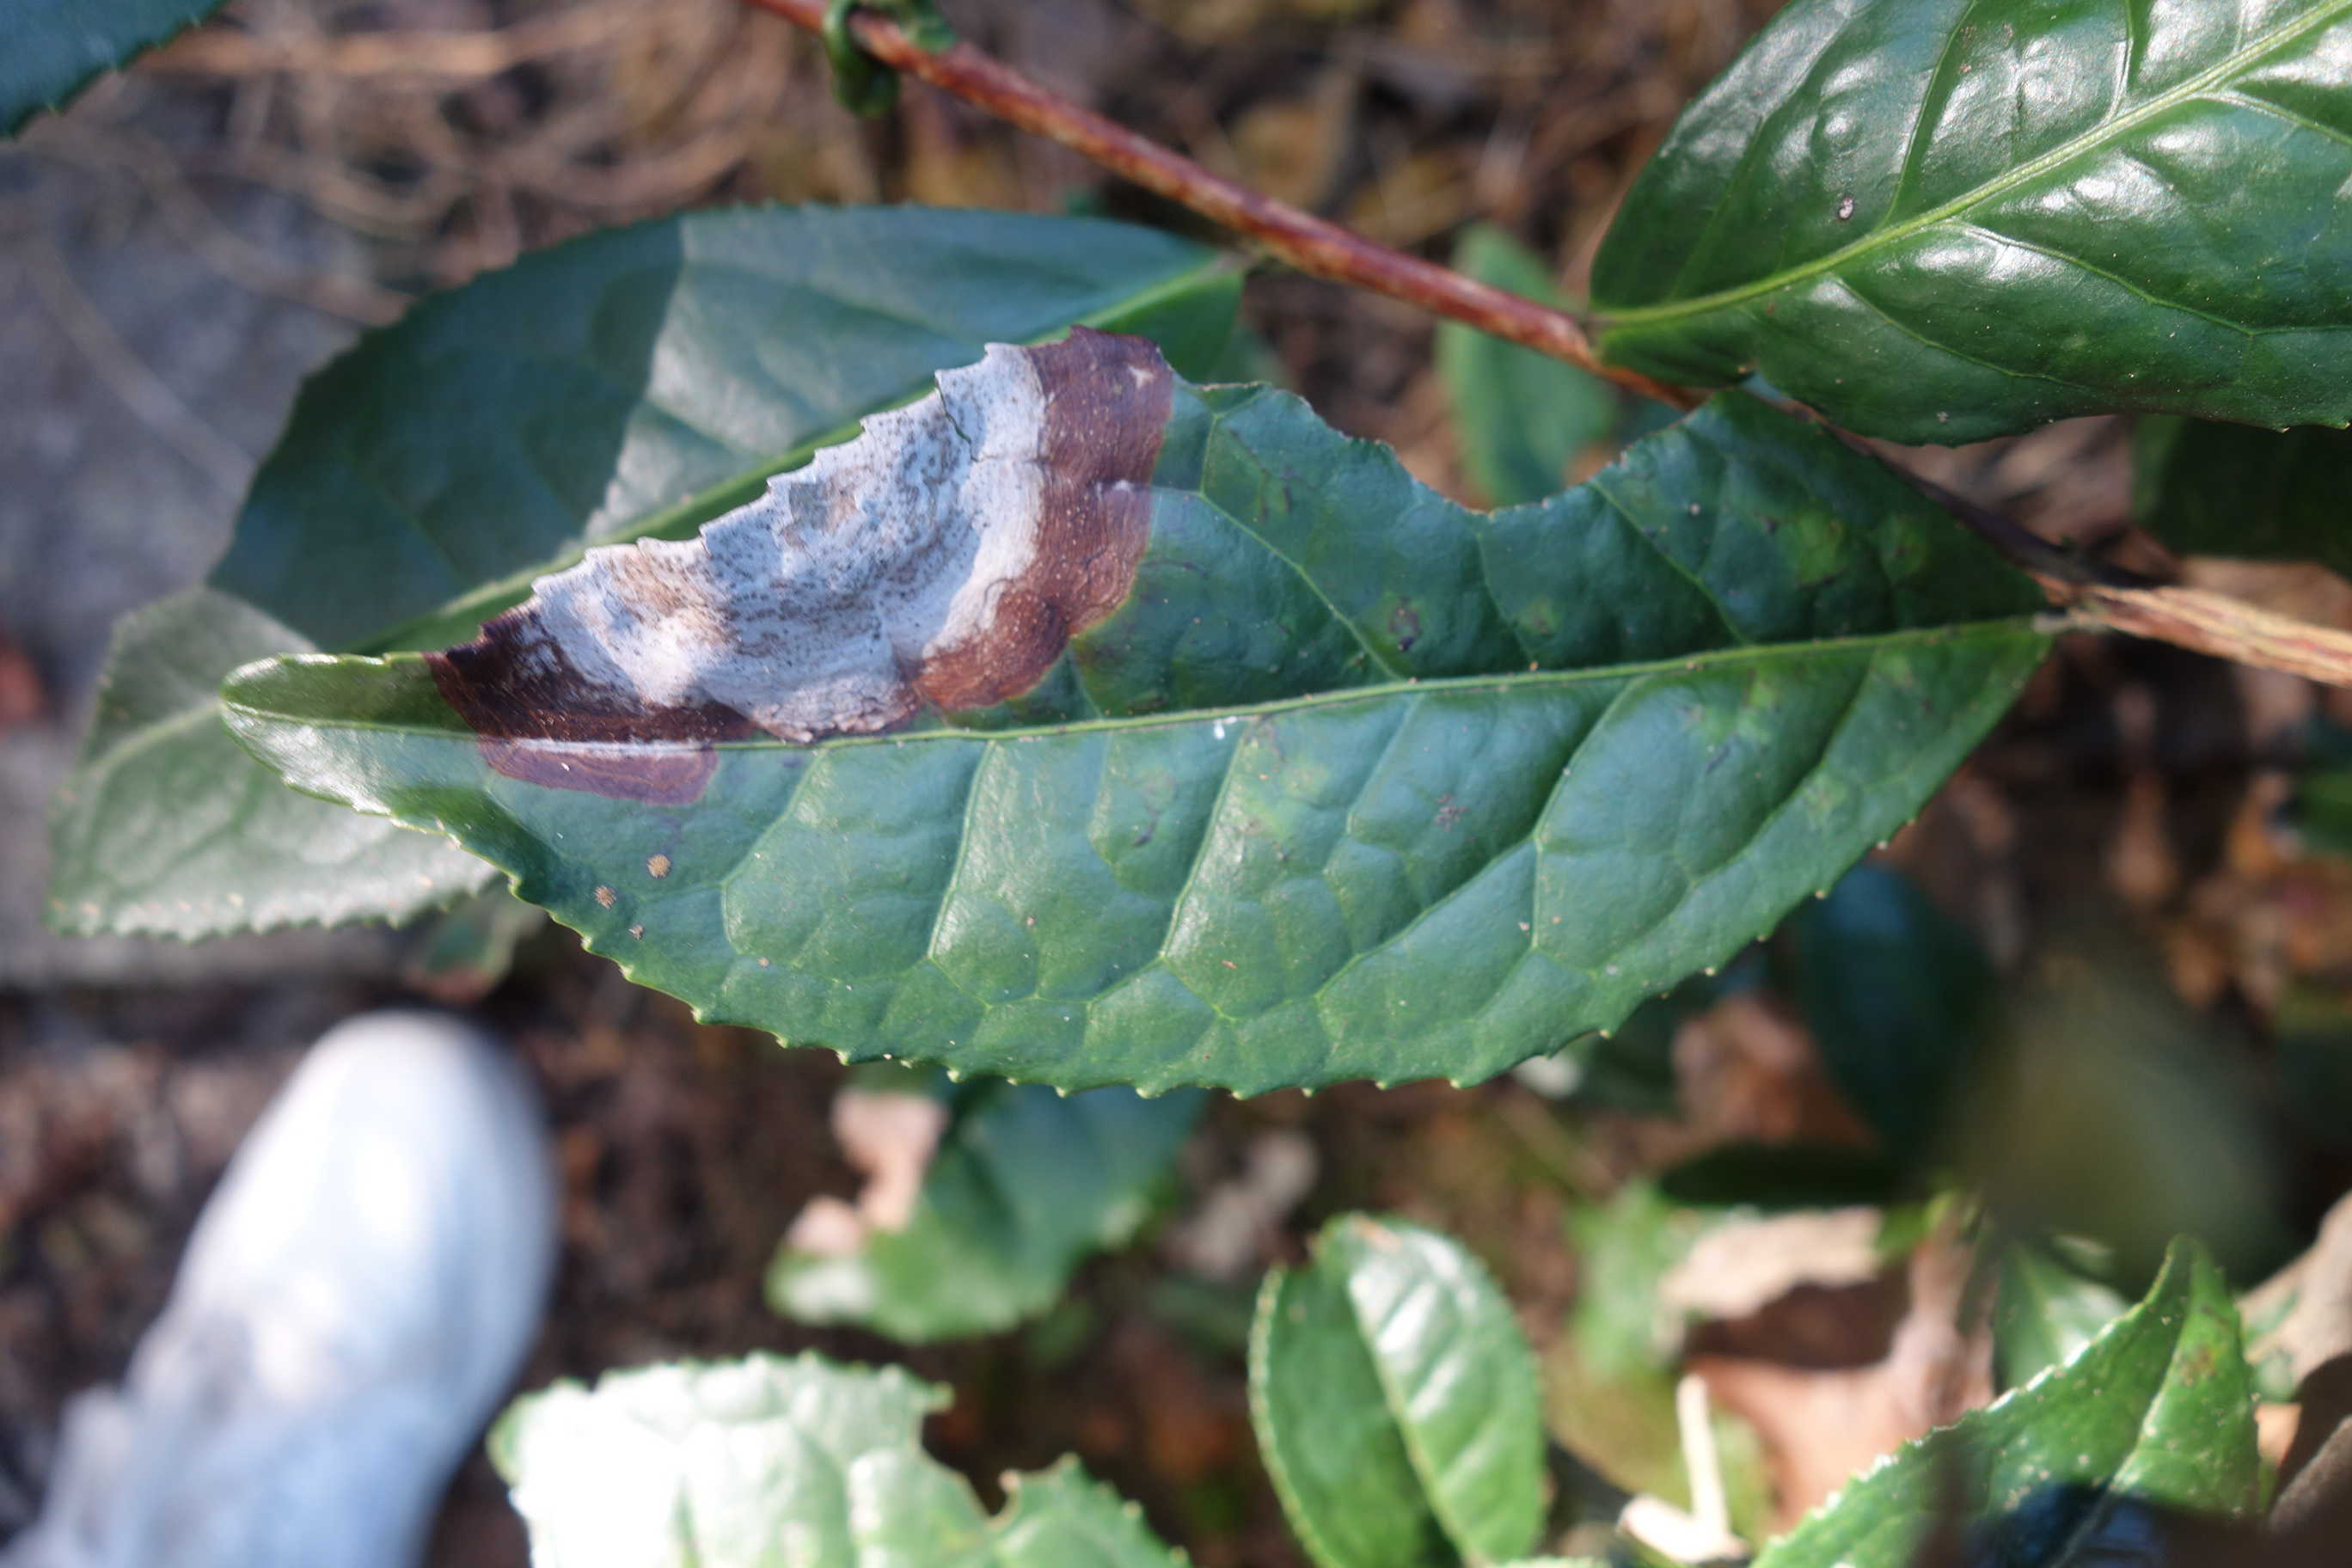tanju_high: (222, 325, 2065, 1102)
